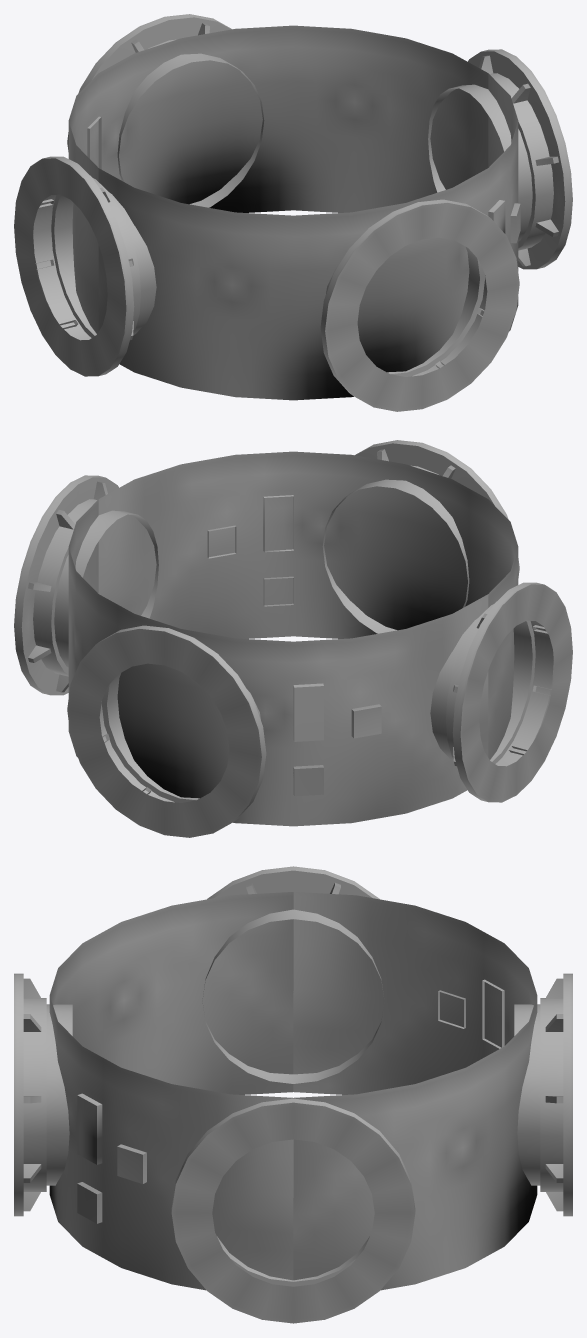
Rendered from hub_ring.fbx.
The picture shows the model from 3 angles, top to bottom: view 1: azimuth 30°, elevation 25°; view 2: azimuth 150°, elevation 25°; view 3: azimuth 270°, elevation 25°; orthographic projection. The views are drawn at different scales.
Visible parts, largest first — view 1: Cylinder; view 2: Cylinder; view 3: Cylinder.
Boxes of the visible parts, bbox=[...] form: Cylinder: bbox=[14, 14, 572, 411]; Cylinder: bbox=[14, 440, 572, 837]; Cylinder: bbox=[14, 866, 572, 1323].
Bounding box in the file's own units: 2.15 × 0.9375 × 2.15.
